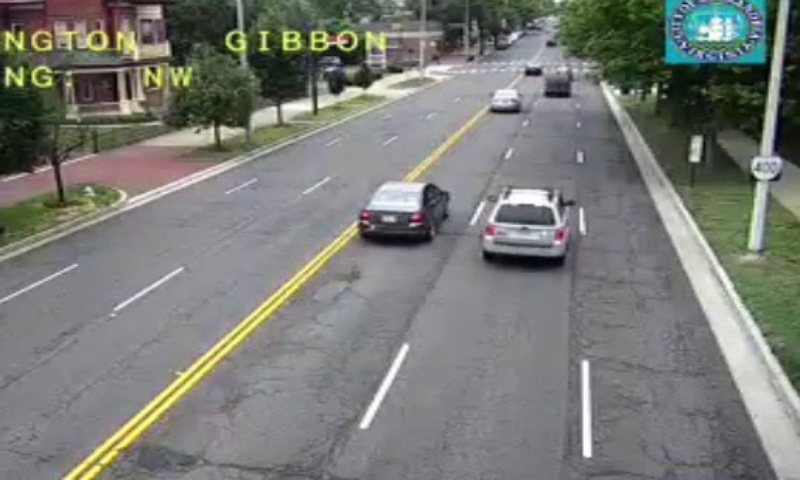car: (480, 187, 569, 259), (357, 182, 451, 237), (488, 89, 521, 112)
